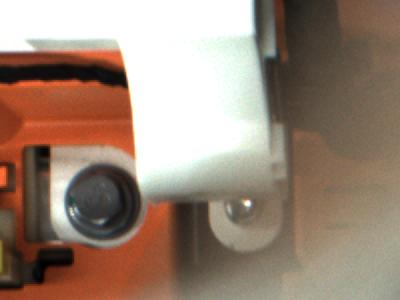nut_b: (66, 165, 137, 238)
